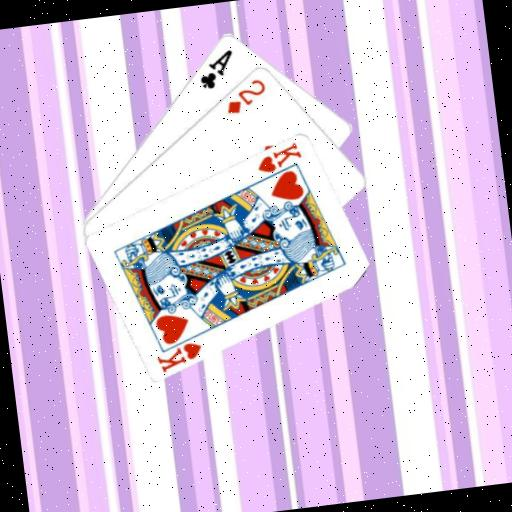2D: (221, 75, 271, 117)
AC: (194, 45, 239, 92)
KH: (251, 138, 305, 176), (152, 337, 206, 374)
